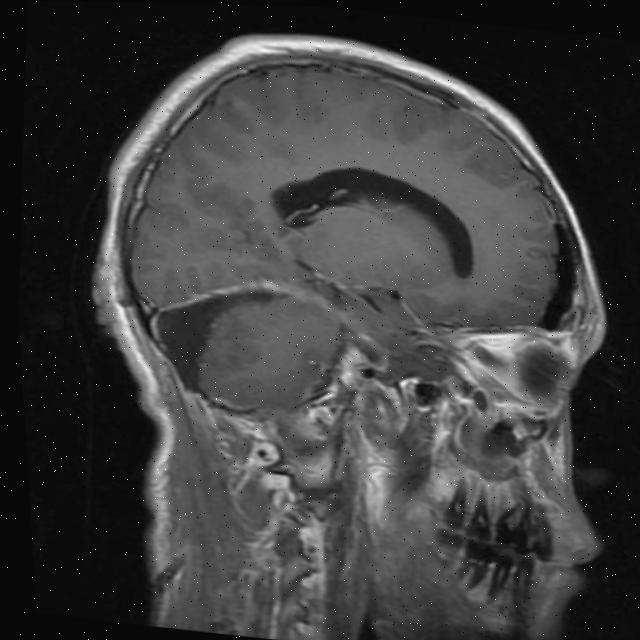Glioma: (136, 266, 356, 430)
